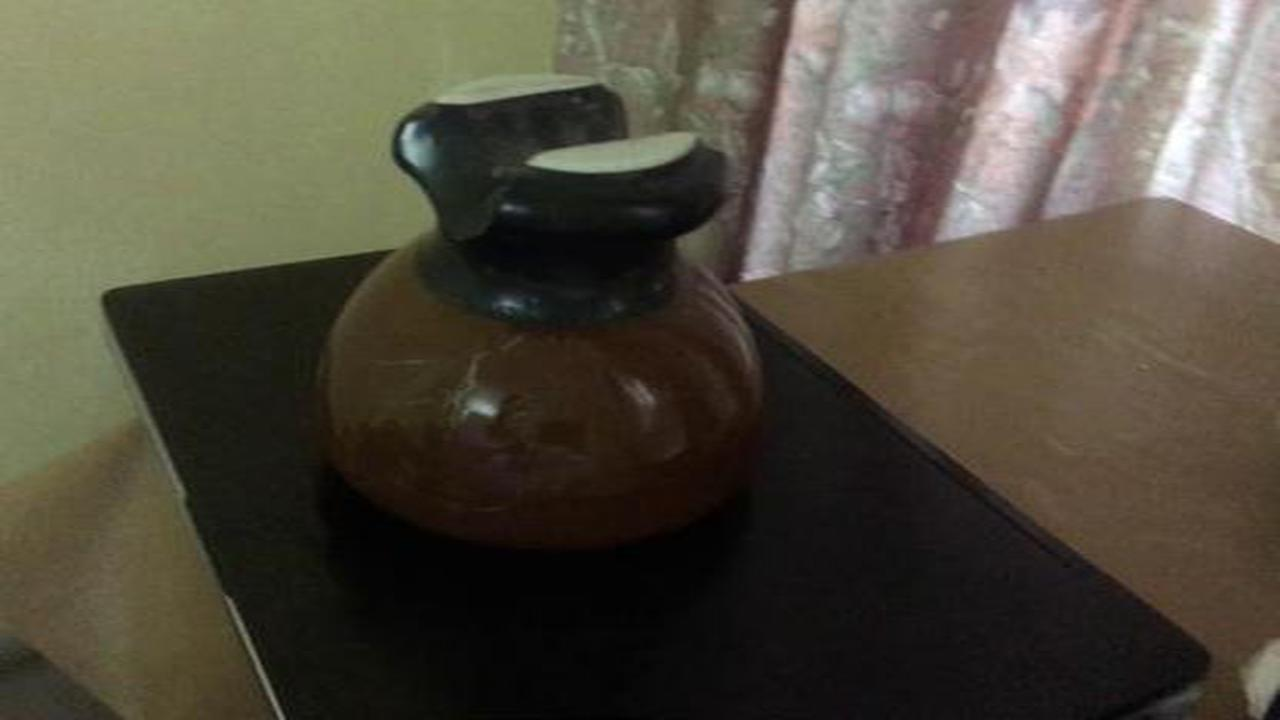insulator_pin: (292, 59, 797, 587)
